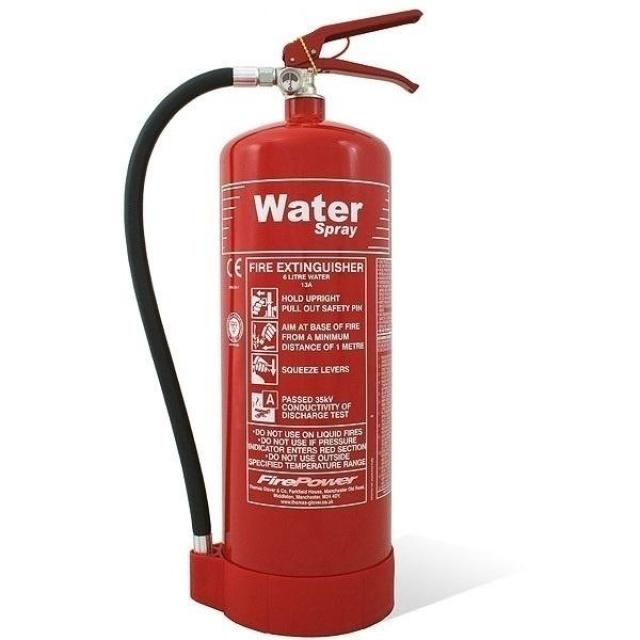fire_extinguisher: (117, 5, 426, 639)
